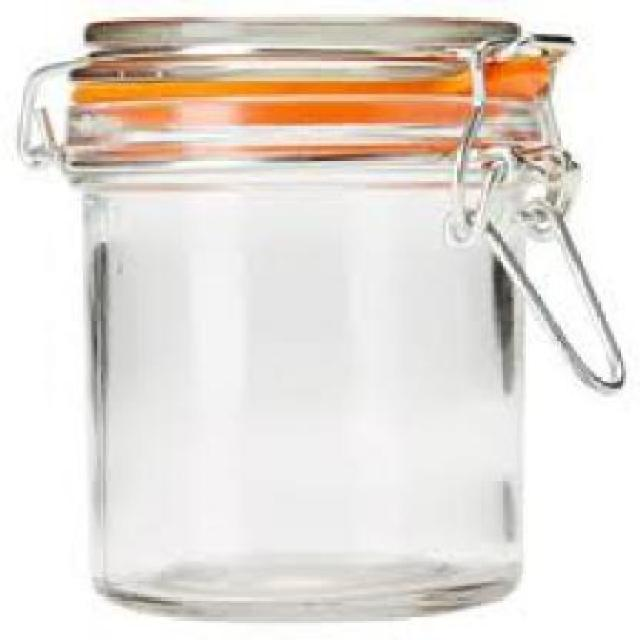GLASS: (57, 18, 557, 612)
